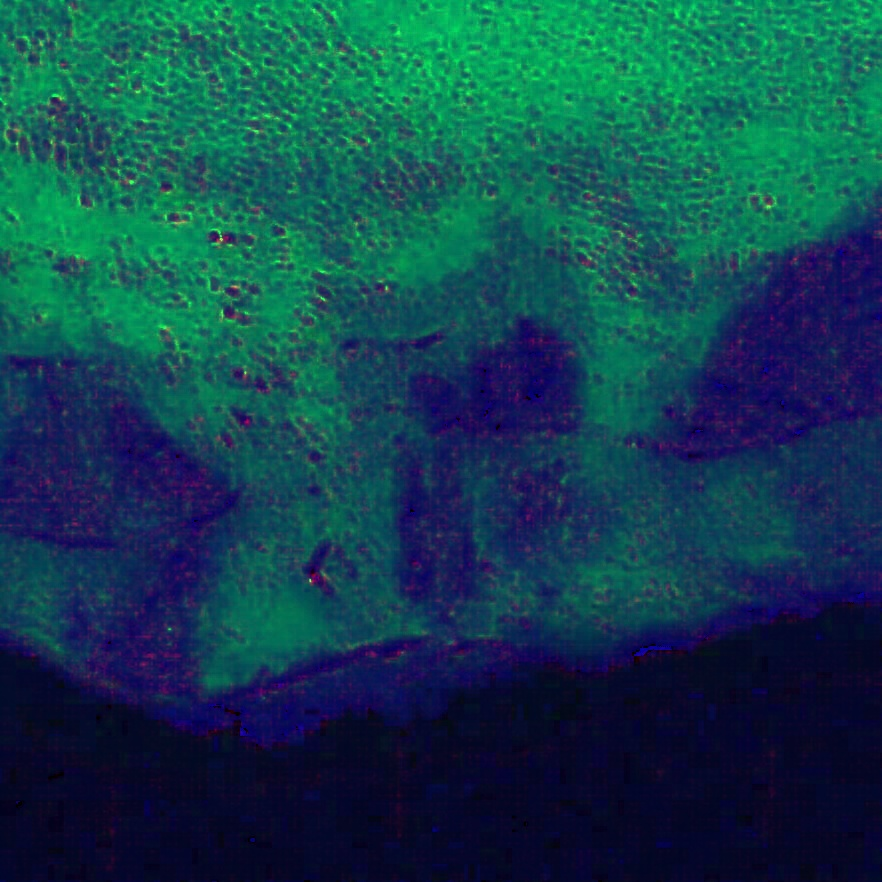rip_current: (109, 209, 437, 670)
